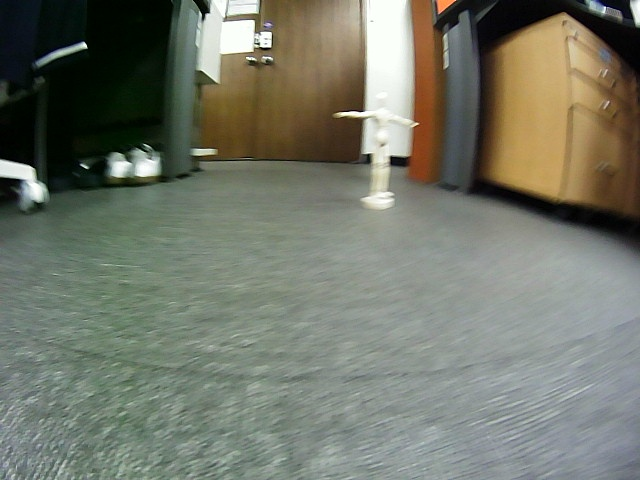person: (333, 93, 418, 199)
